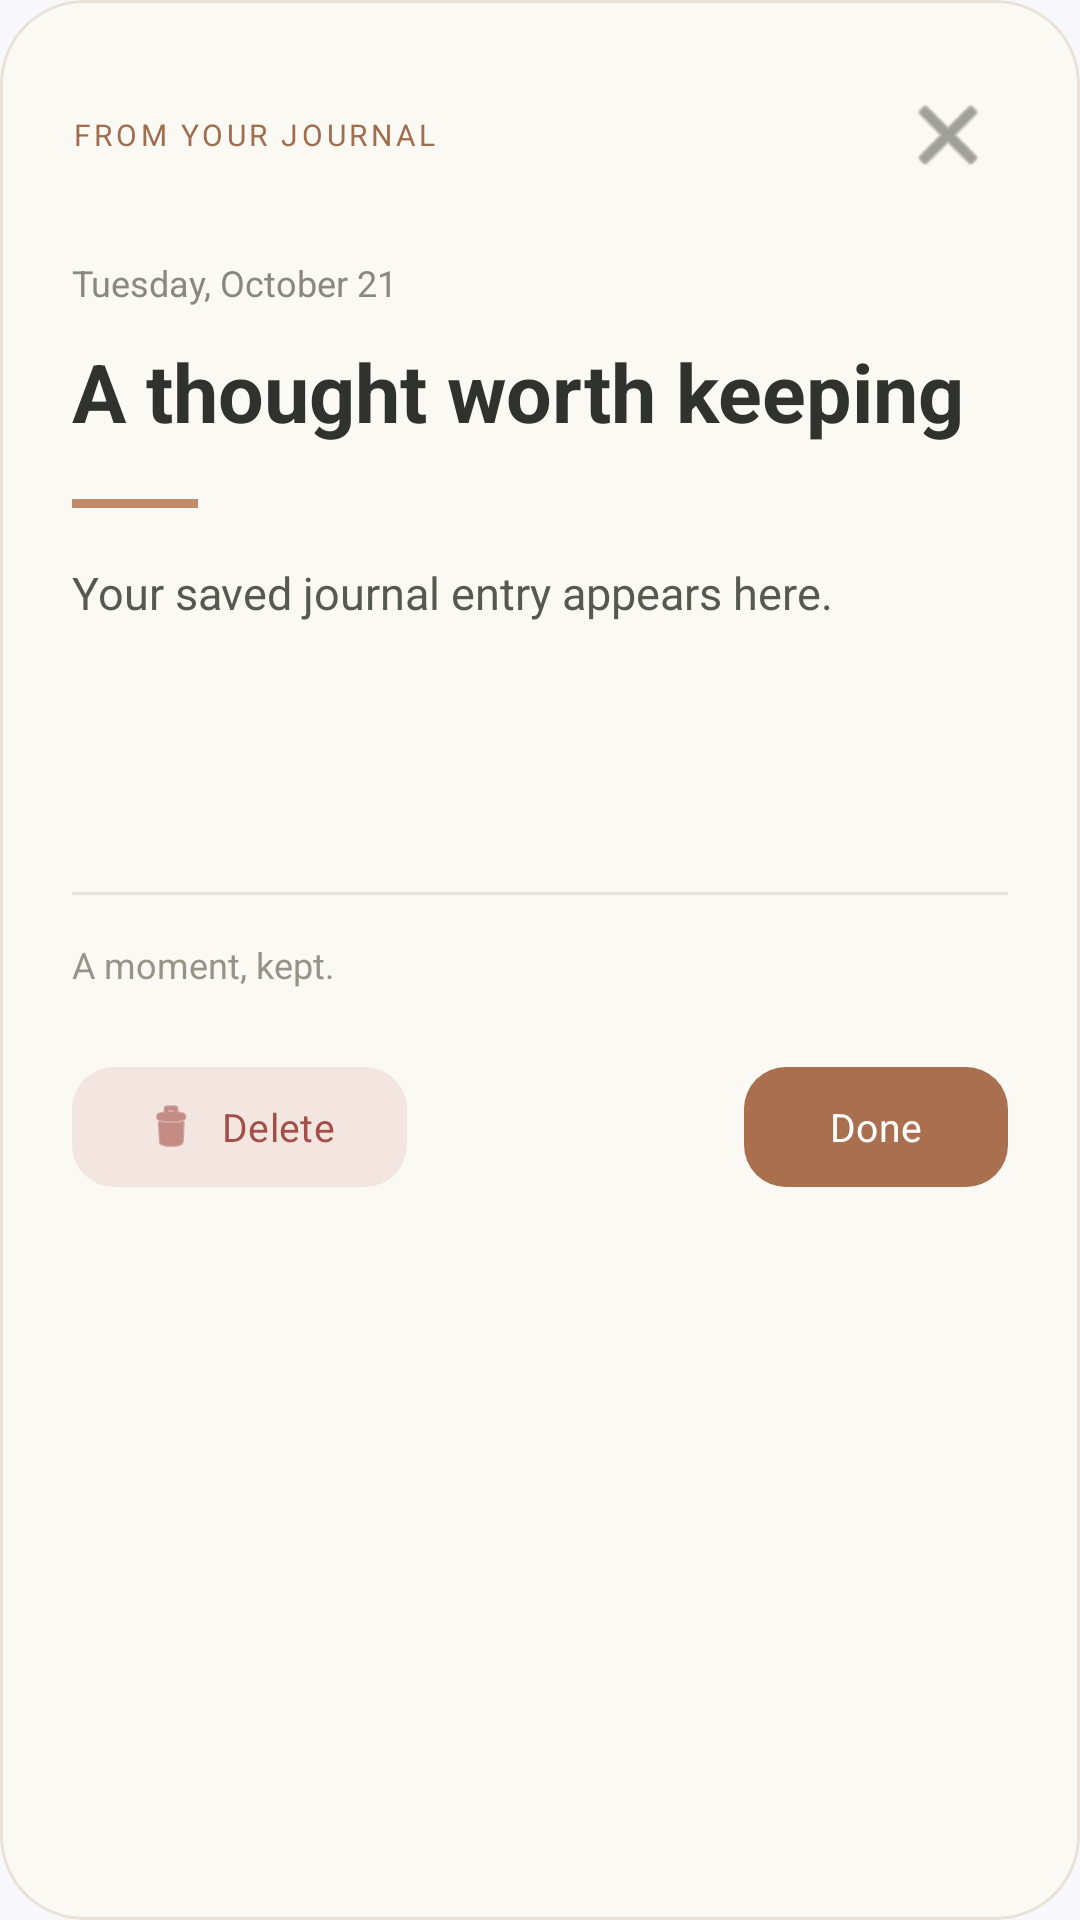

Named icons in this screenshot (1080 × 1920) and their bounding boxes, (x1, y1, x2, y2):
Close journal entry: (918, 105, 978, 165)
